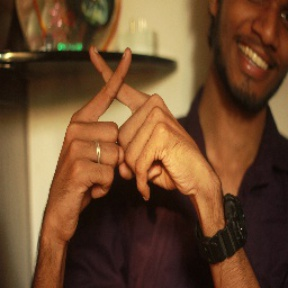X: (60, 40, 174, 139)
